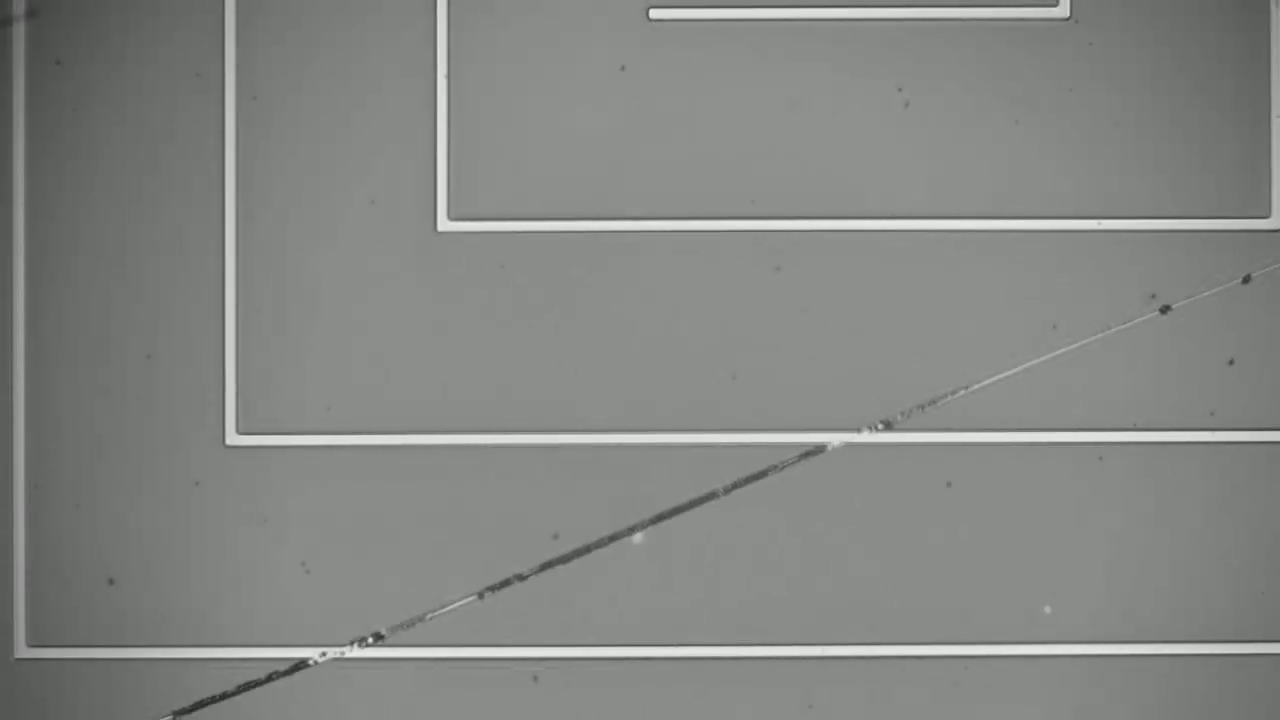scratch: (178, 259, 1280, 714)
